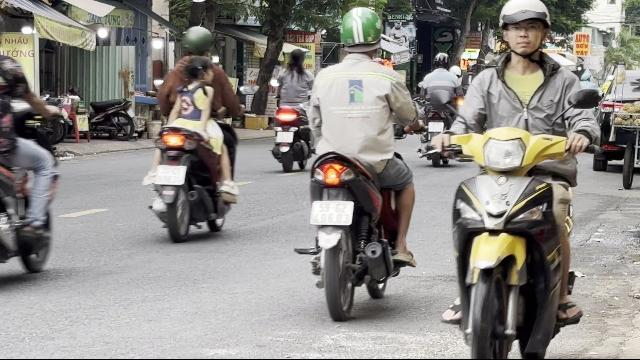helmet: (498, 0, 554, 58), (338, 6, 384, 60), (178, 26, 214, 58), (432, 51, 450, 69)
licenseplate: (310, 200, 352, 224), (157, 166, 186, 184), (276, 131, 292, 141), (428, 122, 444, 132)
motorcyclist: (424, 0, 598, 358), (297, 6, 425, 320), (143, 25, 243, 241), (270, 46, 314, 172), (418, 49, 462, 172)
nohelmet: (182, 55, 216, 85), (286, 48, 306, 70)
